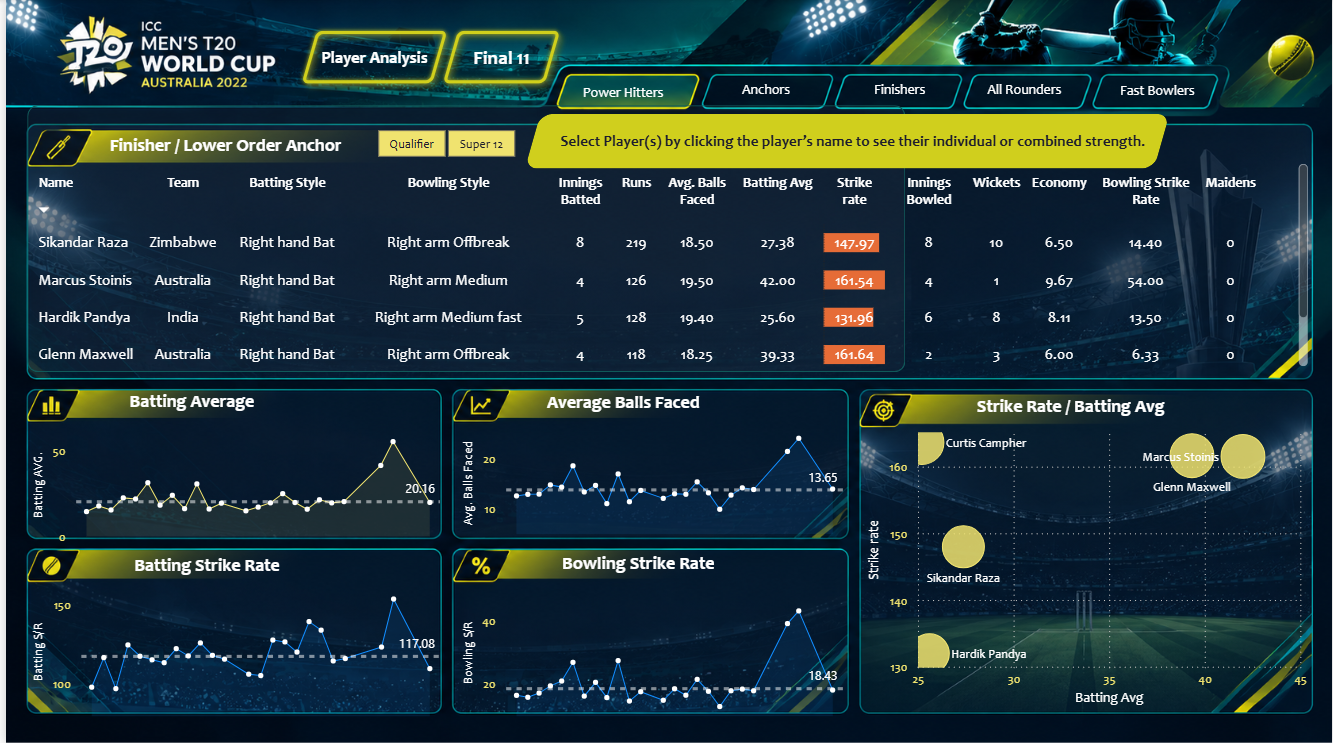

The dashboard page shown, as its layout file describes it:
{"tool":"powerbi","page":{"name":"Finishers","canvas":[1280,720],"ordinal":2},"visuals":[{"type":"card","fields":{"Values":["Key_Measures.Strike rate"]},"box":[805.2,103.8,93,60],"z":0,"group":"g2"},{"type":"shape","box":[82.5,118.8,260,43.8],"z":0,"group":"g1"},{"type":"shape","box":[466.2,366.2,260,43.8],"z":0},{"type":"shape","box":[50,370,260,35],"z":0},{"type":"shape","box":[897.5,370,260,43.8],"z":0},{"type":"shape","box":[480,522.5,260,43.8],"z":0},{"type":"shape","box":[63.8,523.8,260,43.8],"z":0},{"type":"card","fields":{"Values":["Key_Measures.Bat Avg"]},"box":[706.2,103.8,92,60],"z":1000,"group":"g2"},{"type":"shape","box":[16.2,241.2,792.5,283.8],"z":1000},{"type":"actionButton","box":[677.5,66.2,111,42],"z":2000},{"type":"card","fields":{"Values":["Key_Measures.Bowling Strike Rate"]},"box":[1011.2,103.8,100,60],"z":2000,"group":"g2"},{"type":"actionButton","box":[523.8,68.8,144,42],"z":3000},{"type":"card","fields":{"Values":["Key_Measures.Avergate Balls Faced"]},"box":[904.2,103.8,101,60],"z":3000,"group":"g2"},{"type":"actionButton","box":[812.5,66.2,101,42],"z":4000},{"type":"actionButton","box":[925,66.2,115,42],"z":5000},{"type":"actionButton","box":[1040,66.2,142.5,42.5],"z":6000},{"type":"areaChart","fields":{"Category":["dim_match_summary.Match_Date.Variation.Date Hierarchy.Day"],"Y":["Key_Measures.Avergate Balls Faced"]},"box":[435,405,377.5,116.2],"z":9000},{"type":"areaChart","fields":{"Category":["dim_match_summary.Match_Date.Variation.Date Hierarchy.Day"],"Y":["Key_Measures.Bowling Strike Rate"]},"box":[435,556.2,377.5,141.2],"z":11000},{"type":"areaChart","fields":{"Category":["dim_match_summary.Match_Date.Variation.Date Hierarchy.Day"],"Y":["Key_Measures.Bat Avg"]},"box":[20,405,403.8,127.5],"z":12000},{"type":"areaChart","fields":{"Category":["dim_match_summary.Match_Date.Variation.Date Hierarchy.Day"],"Y":["Key_Measures.Strike rate"]},"box":[20,555,403.8,142.5],"z":13000},{"type":"shape","box":[20,102.5,847.5,257.5],"z":14000},{"type":"group","id":"g1","title":"Group 2","box":[82.5,118.8,260,43.8],"z":15000},{"type":"slicer","fields":{"Values":["dim_match_summary.stage"]},"box":[332.5,120,182.5,35],"z":16000},{"type":"tableEx","fields":{"Values":["dim_player.name","Min(dim_player.team)","Min(dim_player.Batting Style)","Min(dim_player.Bowling Style)","Key_Measures.Total Innings Batted","Key_Measures.Total Runs","Key_Measures.Avergate Balls Faced","Key_Measures.Bat Avg","Key_Measures.Strike rate","Key_Measures.Total Innings Bowled","Key_Measures.wickets","Key_Measures.Economy"]},"box":[20,155,1241.2,205],"z":17000},{"type":"shape","box":[501.2,111.2,622.5,52.5],"z":18000},{"type":"shape","box":[523.8,120,173,34],"z":19000},{"type":"group","id":"g2","title":"Combined Perfoamce Metrices","box":[706.2,103.8,405,60],"z":20000},{"type":"actionButton","title":"Button Player Ana selected","box":[276.2,21.2,158.8,68.8],"z":22000},{"type":"actionButton","title":"Button Player Ana selected","box":[412.5,21.2,131.2,68.8],"z":23000},{"type":"shape","box":[523.8,111.2,587.5,52.5],"z":23501},{"type":"shape","box":[826.2,413.8,435,285],"z":24001},{"type":"scatterChart","fields":{"Category":["dim_player.name"],"Size":["Key_Measures.Strike rate"],"X":["Key_Measures.Bat Avg"],"Y":["Key_Measures.Strike rate"]},"box":[826.2,405,435,281.2],"z":24501}]}

Visuals, with their boxes in screenshot pixels (x1, y1, x2, y2), scaled from the page's 1280x720 canvas onto the 1333x743 screenshot:
card - Key_Measures.Strike rate: [839, 107, 935, 169]
shape: [86, 123, 357, 168]
shape: [486, 378, 756, 423]
shape: [52, 382, 323, 418]
shape: [935, 382, 1205, 427]
shape: [500, 539, 771, 584]
shape: [66, 541, 337, 586]
card - Key_Measures.Bat Avg: [735, 107, 831, 169]
shape: [17, 249, 842, 542]
actionButton: [706, 68, 821, 112]
card - Key_Measures.Bowling Strike Rate: [1053, 107, 1157, 169]
actionButton: [545, 71, 695, 114]
card - Key_Measures.Avergate Balls Faced: [942, 107, 1047, 169]
actionButton: [846, 68, 951, 112]
actionButton: [963, 68, 1083, 112]
actionButton: [1083, 68, 1231, 112]
areaChart - dim_match_summary.Match_Date.Variation.Date Hierarchy.Day x Key_Measures.Avergate Balls Faced: [453, 418, 846, 538]
areaChart - dim_match_summary.Match_Date.Variation.Date Hierarchy.Day x Key_Measures.Bowling Strike Rate: [453, 574, 846, 720]
areaChart - dim_match_summary.Match_Date.Variation.Date Hierarchy.Day x Key_Measures.Bat Avg: [21, 418, 441, 550]
areaChart - dim_match_summary.Match_Date.Variation.Date Hierarchy.Day x Key_Measures.Strike rate: [21, 573, 441, 720]
shape: [21, 106, 903, 372]
"Group 2" group: [86, 123, 357, 168]
slicer - dim_match_summary.stage: [346, 124, 536, 160]
tableEx - dim_player.name x Min(dim_player.team): [21, 160, 1313, 372]
shape: [522, 115, 1170, 169]
shape: [545, 124, 726, 159]
"Combined Perfoamce Metrices" group: [735, 107, 1157, 169]
"Button Player Ana selected" actionButton: [288, 22, 453, 93]
"Button Player Ana selected" actionButton: [430, 22, 566, 93]
shape: [545, 115, 1157, 169]
shape: [860, 427, 1313, 721]
scatterChart - dim_player.name x Key_Measures.Strike rate: [860, 418, 1313, 708]
